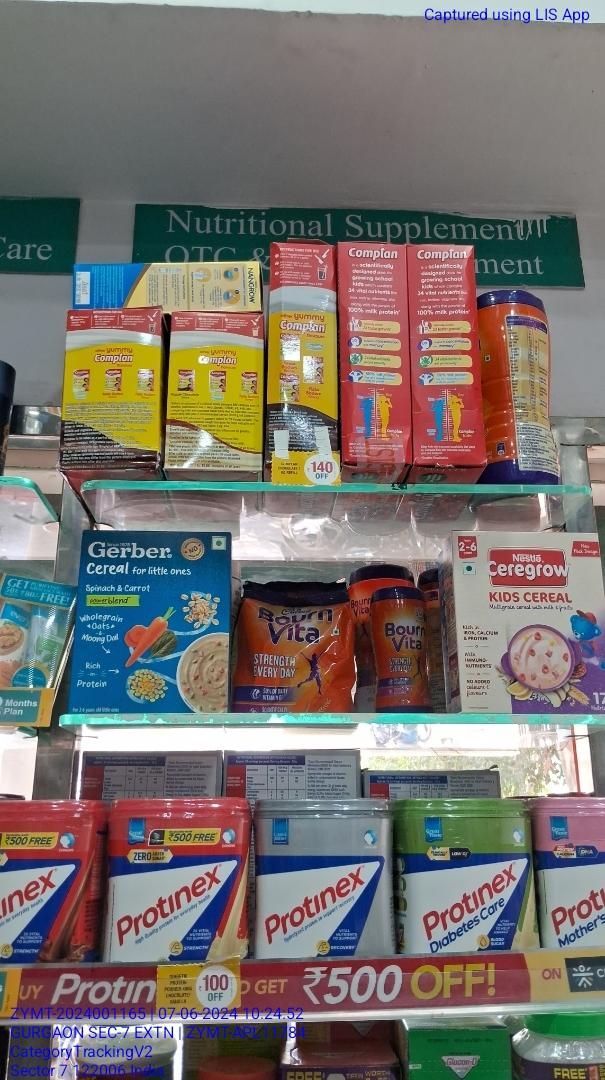PROTINEX_CHOCOLATE_400_G_JAR: (0, 798, 97, 969)
PROTINEX_ORIGINAL_400_G_JAR: (255, 798, 395, 959)
PROTINEX_VANILLA_400_G_JAR: (105, 795, 244, 963)
